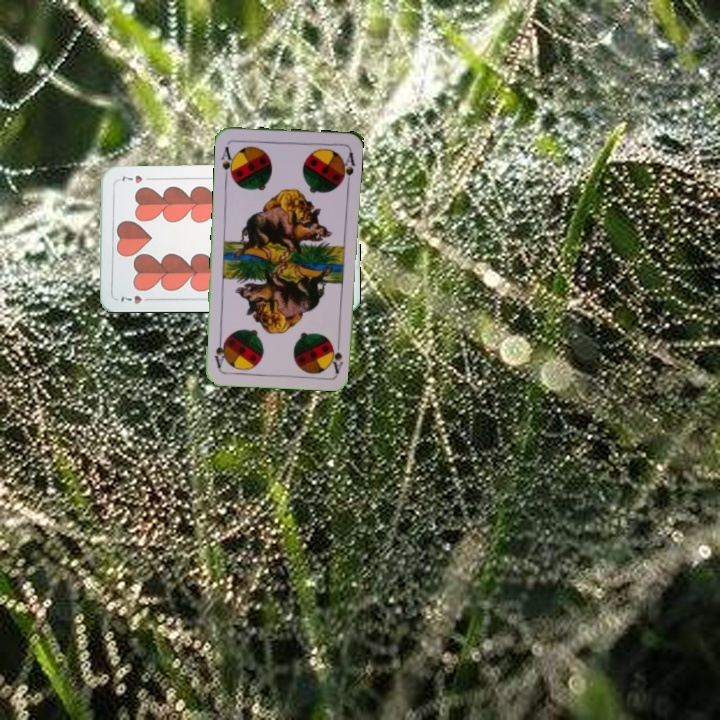H7: (117, 291, 155, 306)
SA: (217, 143, 237, 182), (329, 335, 345, 375)
